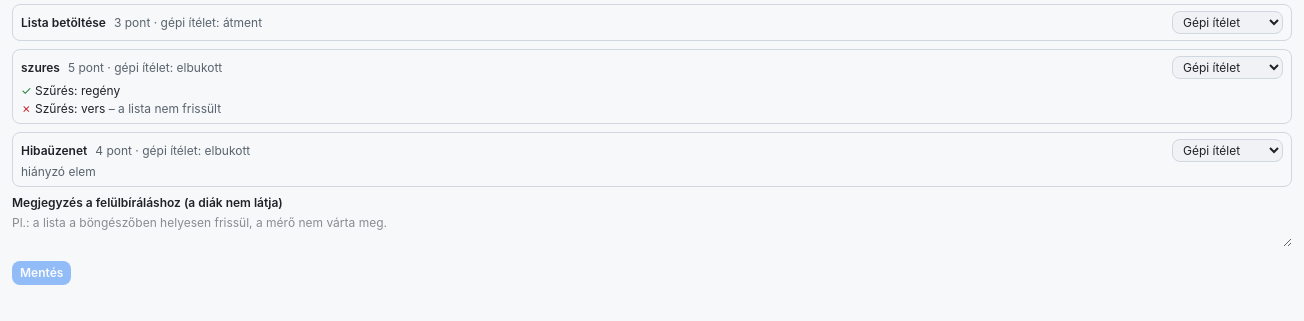
it: GepiFelulbiralasComponent › csak megjegyzés felülbírálás nélkül: nem küld kérést, kézi ítéletet kér
Replace the text in the text box with test id "machine-note-41" with "Csak megjegyzés": coordinates (652, 231) x1=12 y1=215 x2=1292 y2=247
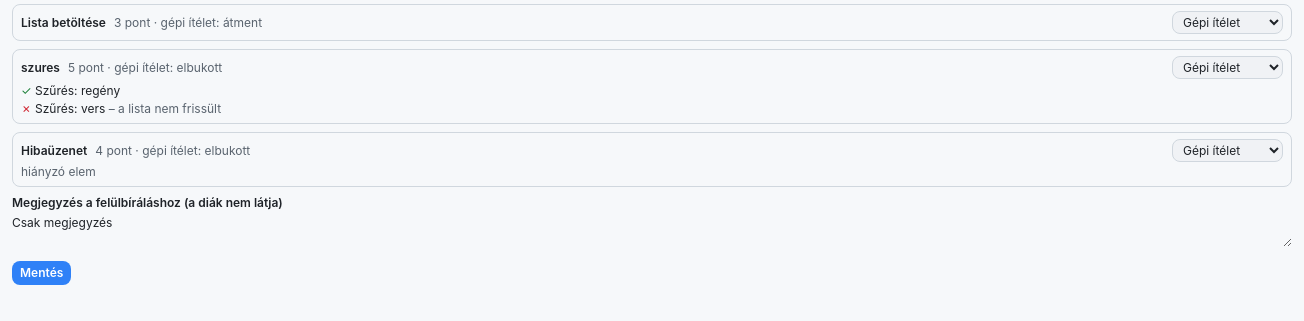
Click the button with test id "machine-save-41": coordinates (42, 273) x1=12 y1=261 x2=71 y2=285
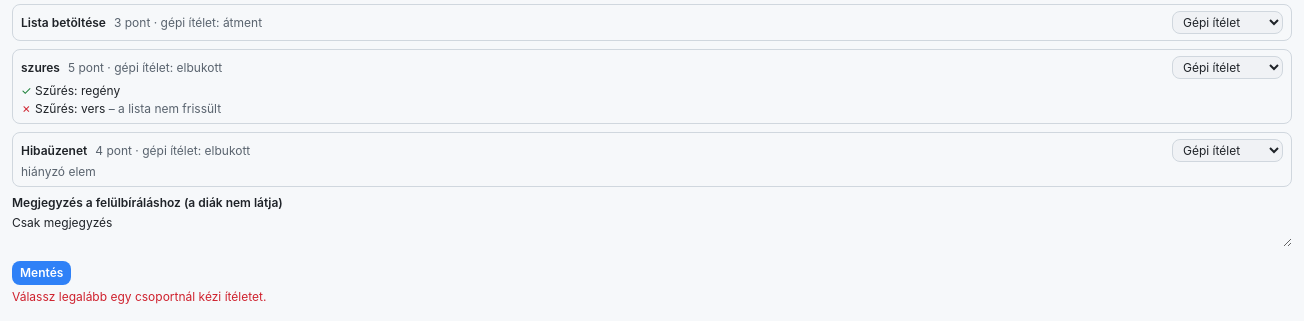
Result: the message with test id "machine-error" shows "legalább egy csoportnál" at x1=12 y1=289 x2=266 y2=304
